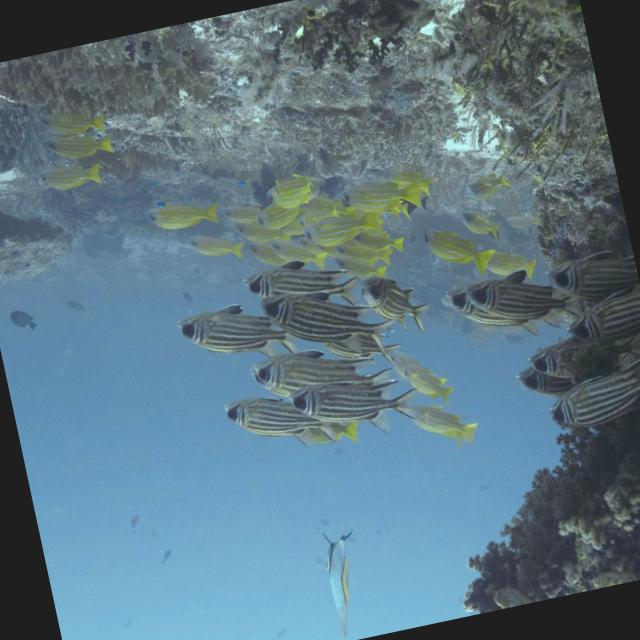Asker Baligi: (250, 267, 394, 383), (283, 354, 428, 455), (456, 250, 586, 352), (160, 285, 296, 382), (533, 353, 640, 446)
